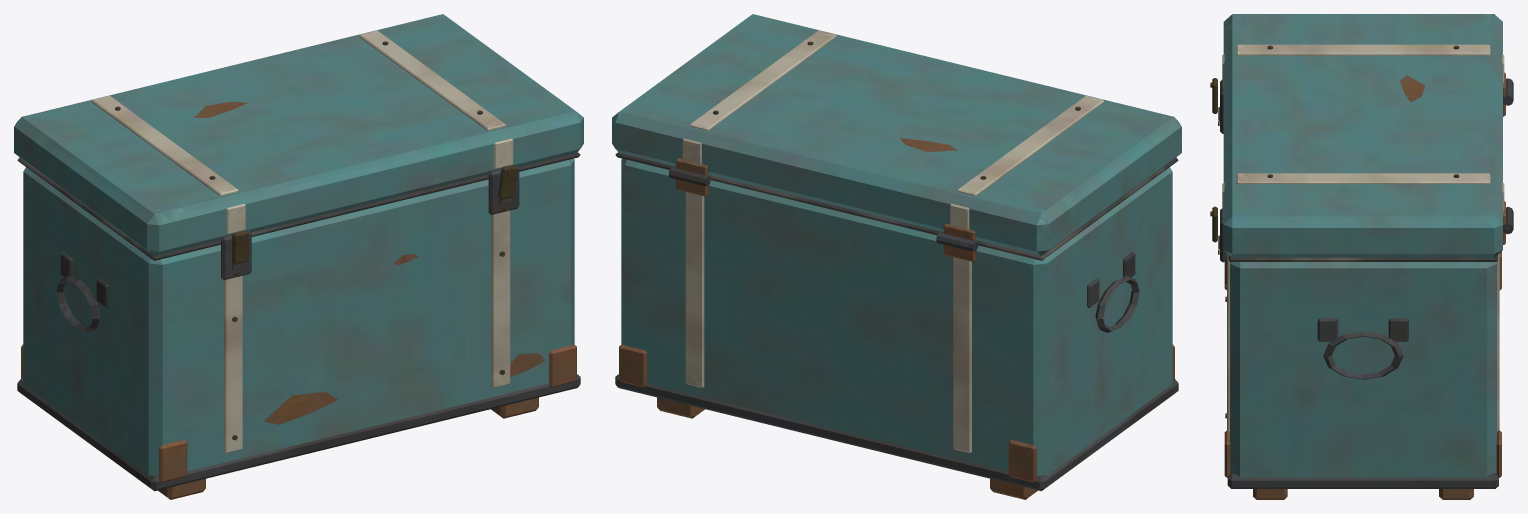
Rendered from W25_tin_trunk.glb.
The picture shows the model from 3 angles, left to right: view 1: azimuth 30°, elevation 25°; view 2: azimuth 150°, elevation 25°; view 3: azimuth 270°, elevation 25°; orthographic projection.
Parts seen in each view (by area): view 1: Painted tin shell; view 2: Painted tin shell; view 3: Painted tin shell.
Part boxes in pixels (<box>): Painted tin shell: <box>14,14,583,499</box>; Painted tin shell: <box>612,14,1181,499</box>; Painted tin shell: <box>1210,14,1513,499</box>.
Bounding box in the file's own units: 0.8 × 0.5212 × 0.4754.
6 materials, 6 textured.
